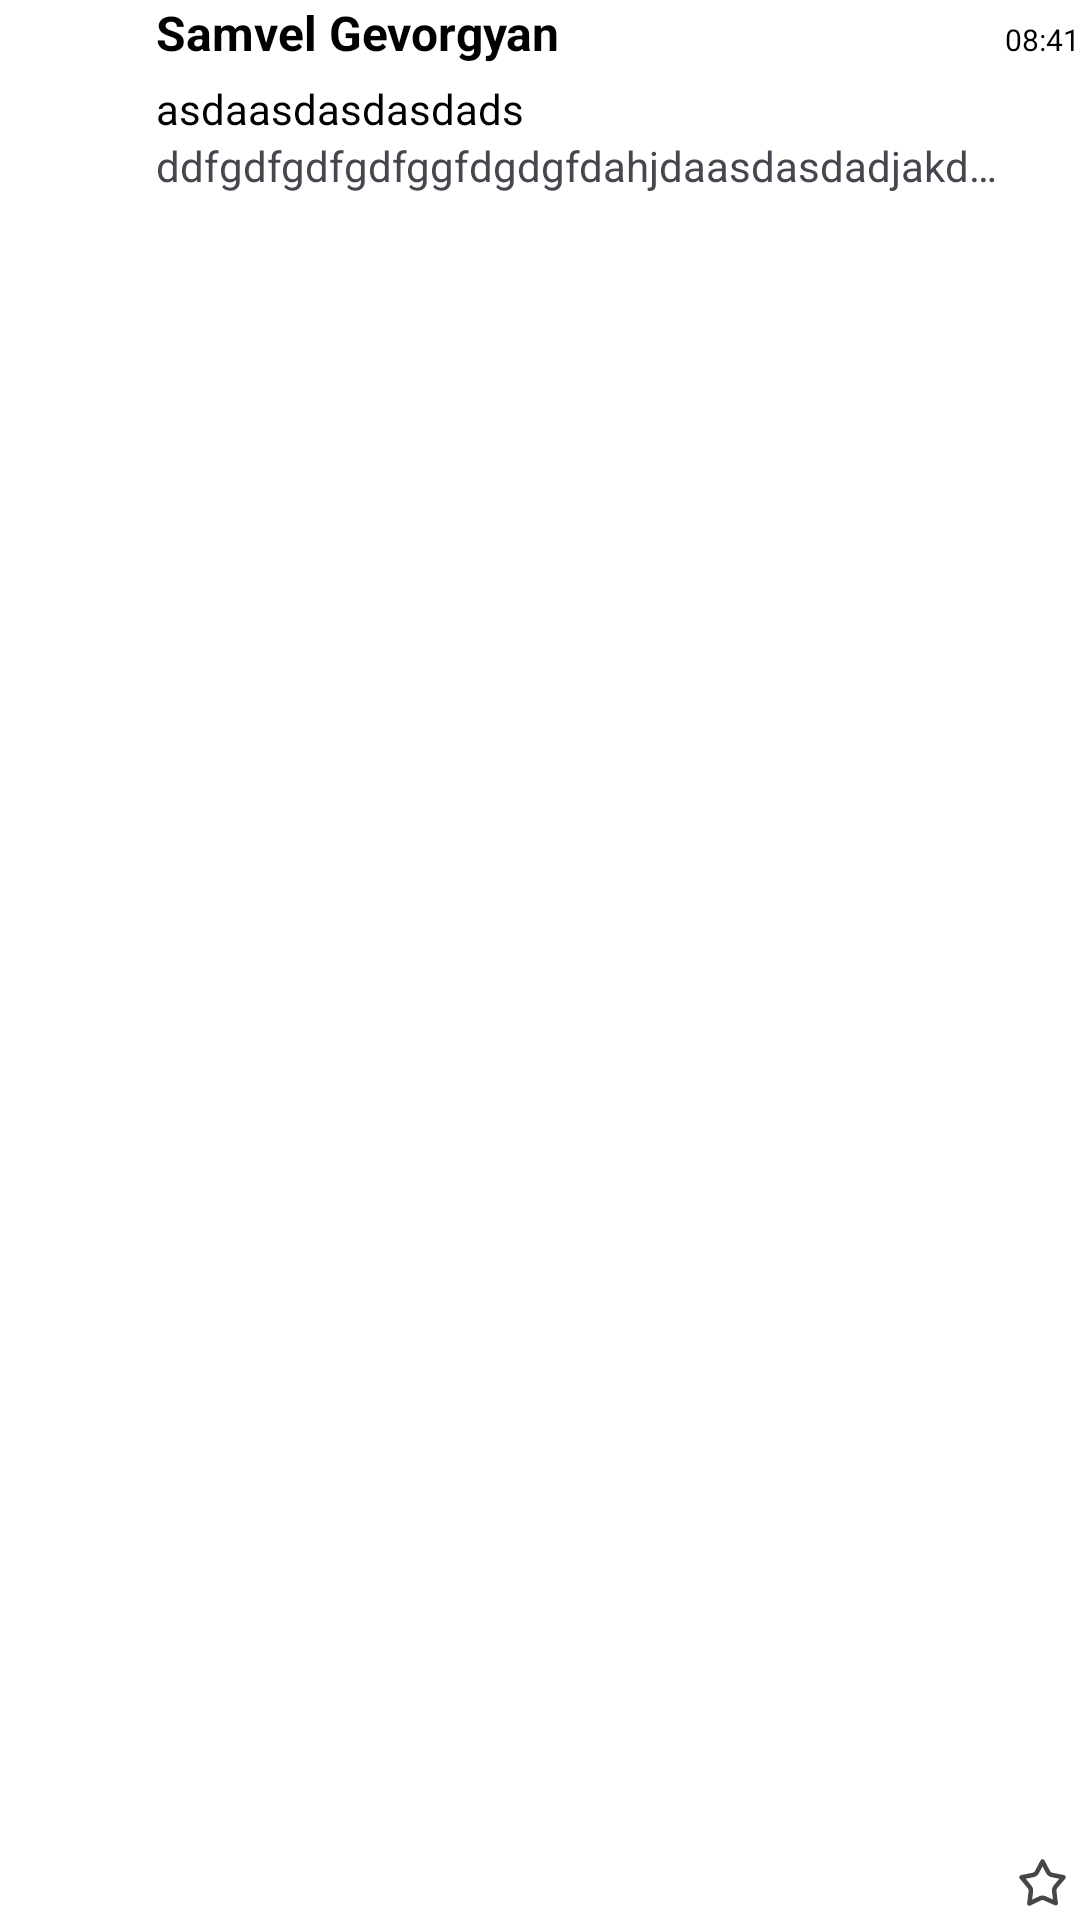

Icons on this 1080x1920 Android screen, each with the point to tap as (x=x, y=y):
star: (x=1042, y=1882)
